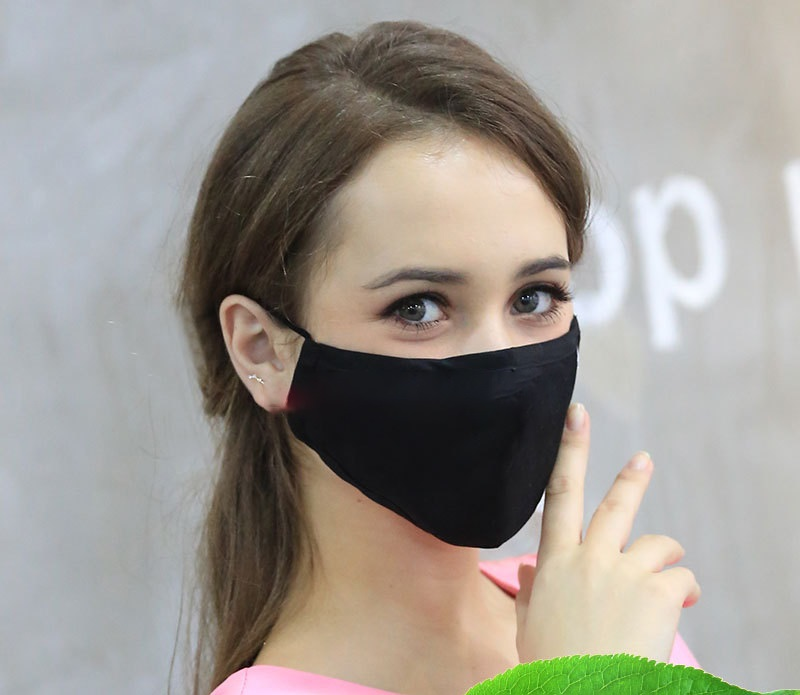face_mask: (296, 147, 578, 512)
